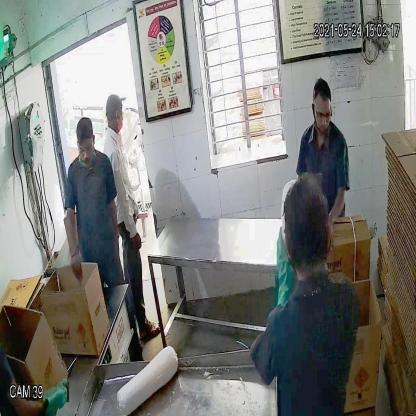goggles: (311, 105, 334, 127), (76, 141, 96, 158)
